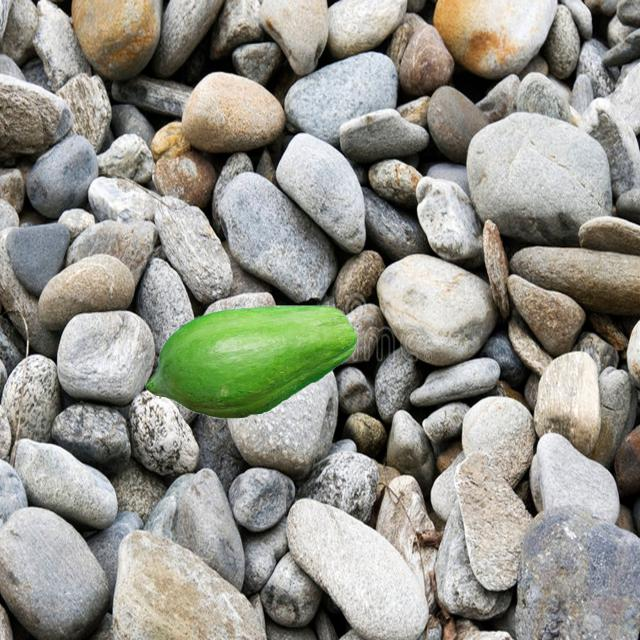Pepaya unrippen: (137, 300, 363, 424)
